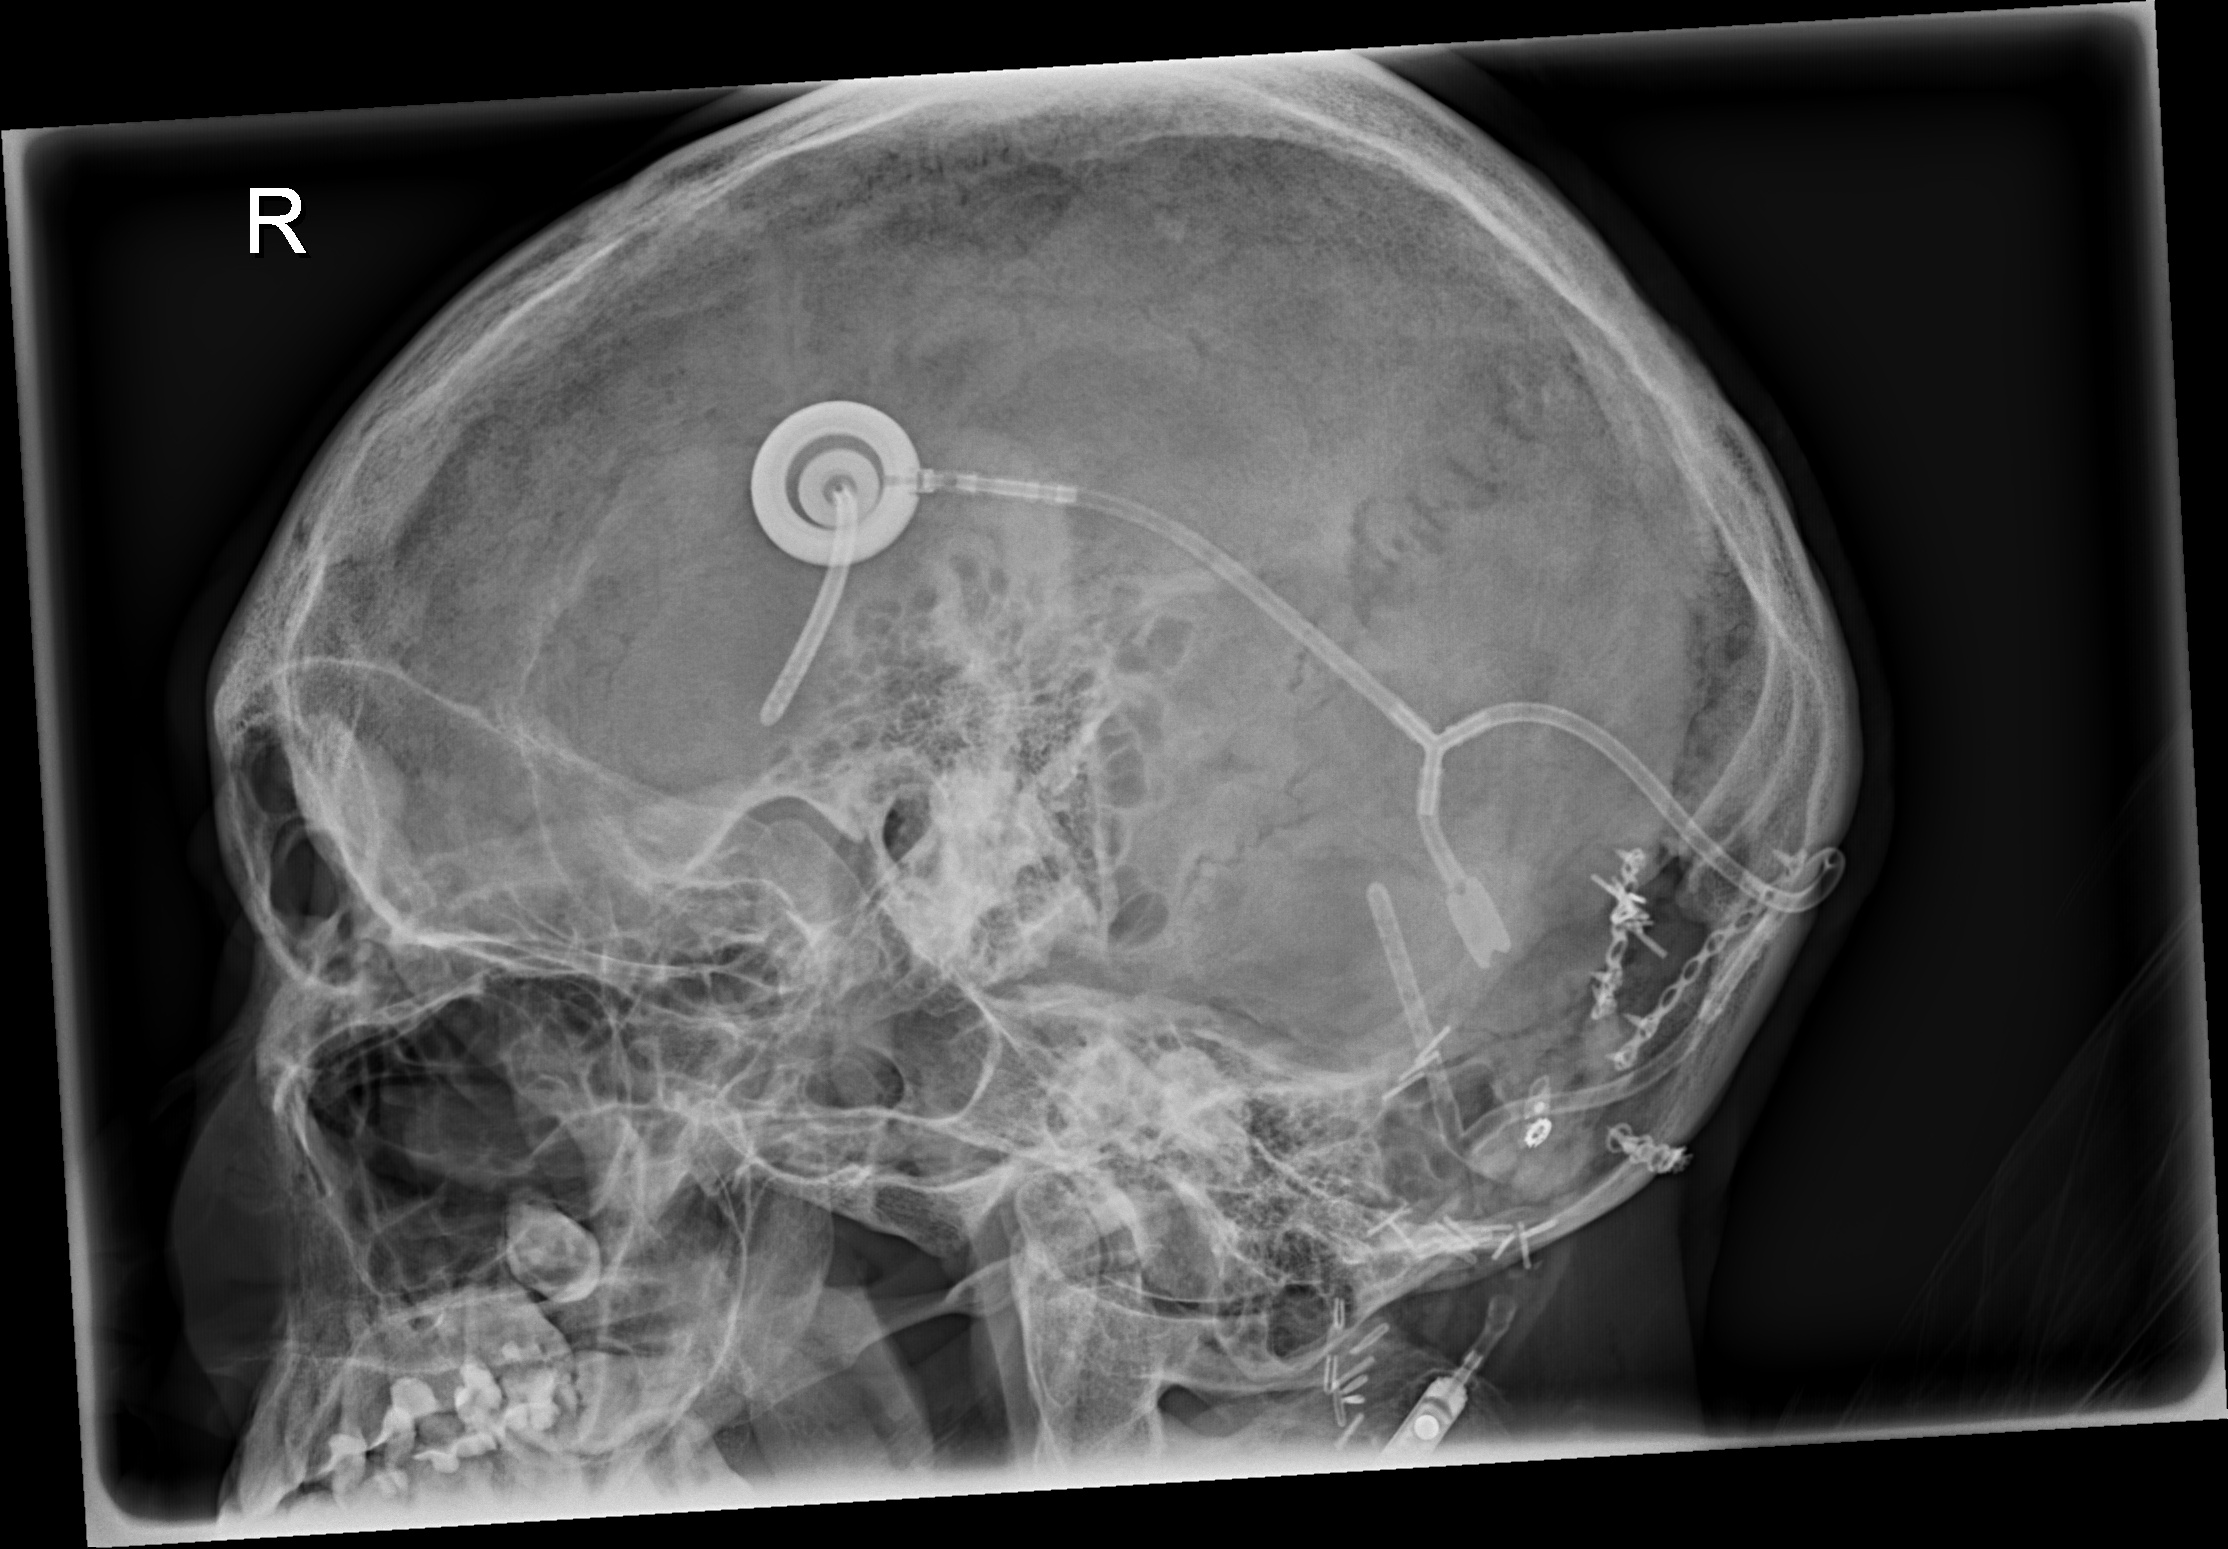Codman Hakim: (1520, 1073, 1556, 1155)
proGAV Gravitationseinheit: (1370, 1356, 1483, 1454)
